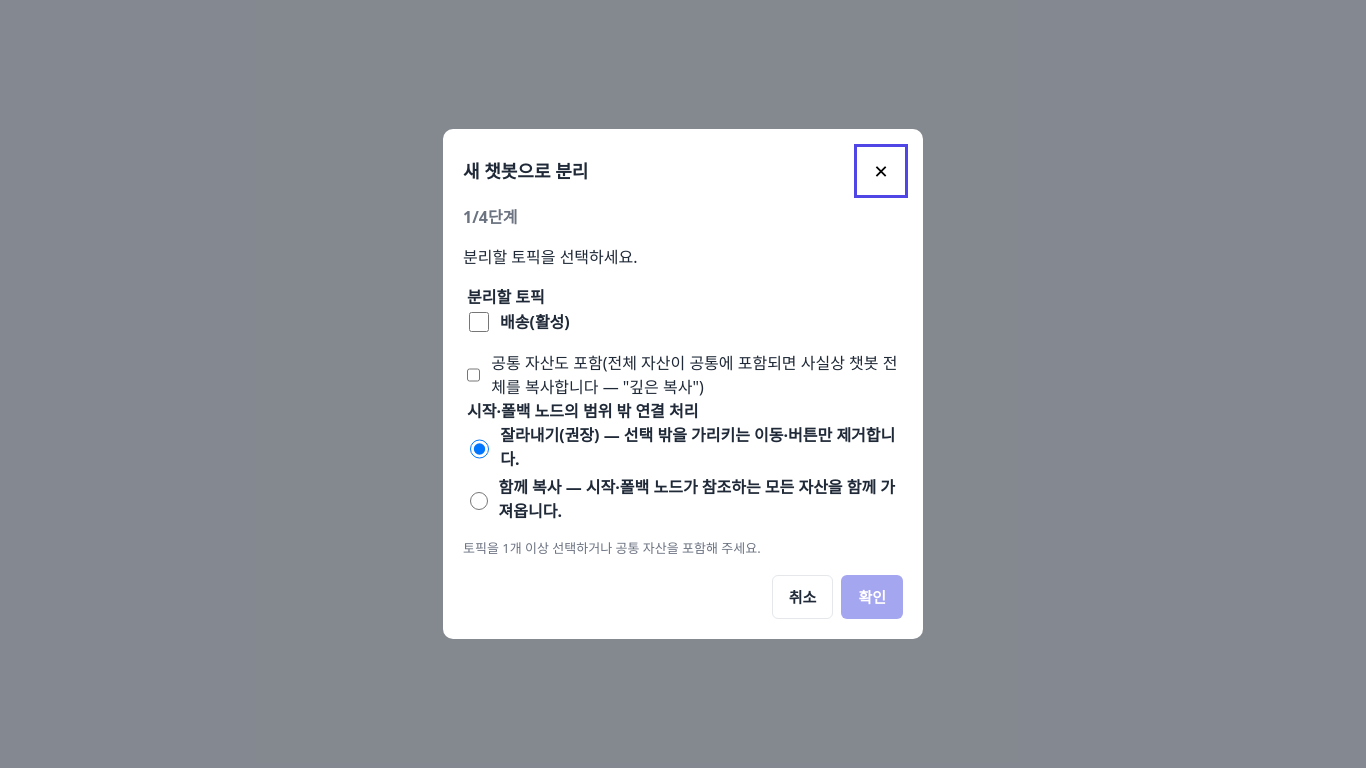
Scenario: TopicSplitWizard › 토픽을 선택하면 다음 버튼이 활성화되고, 클릭 시 미리보기를 요청하며 2단계로 이동한다
The image size is (1366, 768).
Click the checkbox labelled "배송(활성)" at (479, 322), box x1=469 y1=312 x2=489 y2=332
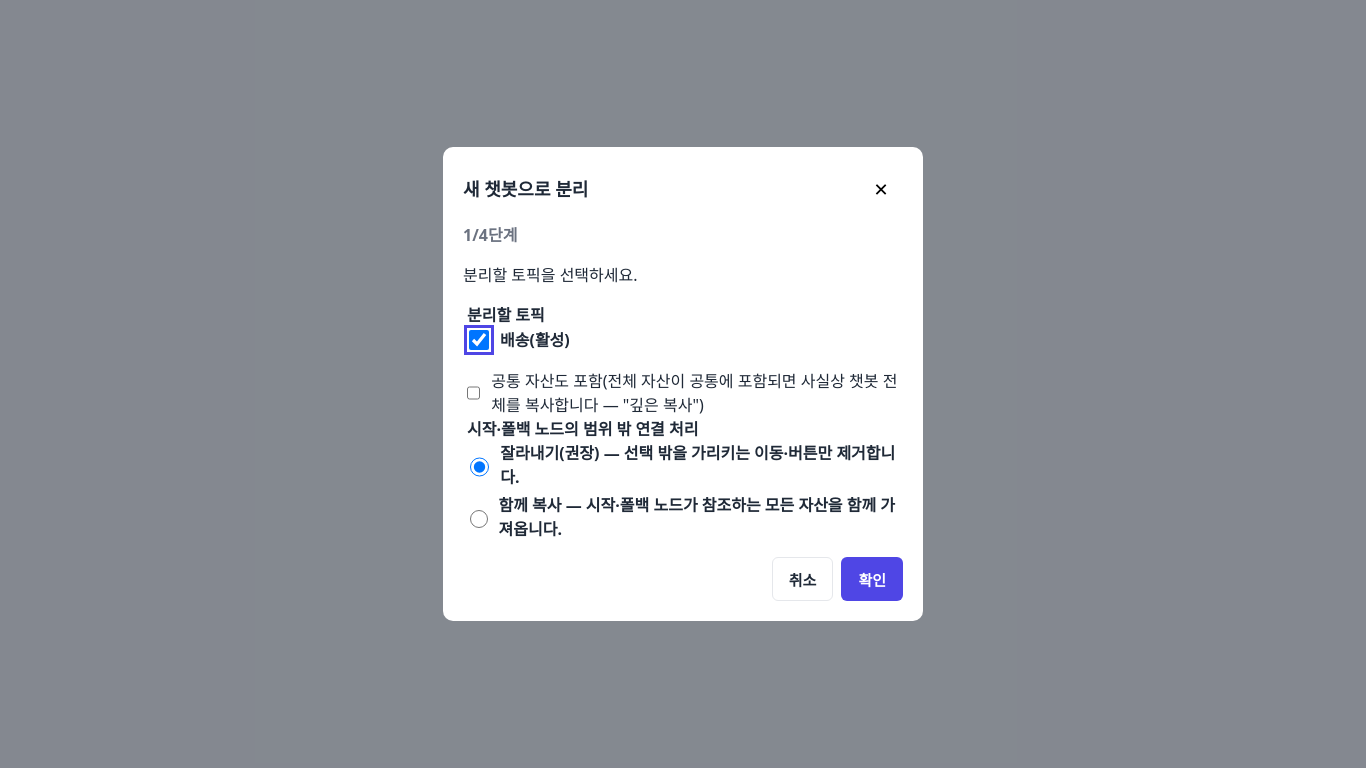
Now the button "확인" is enabled
Click the button "확인" at (872, 579), box x1=841 y1=557 x2=903 y2=601
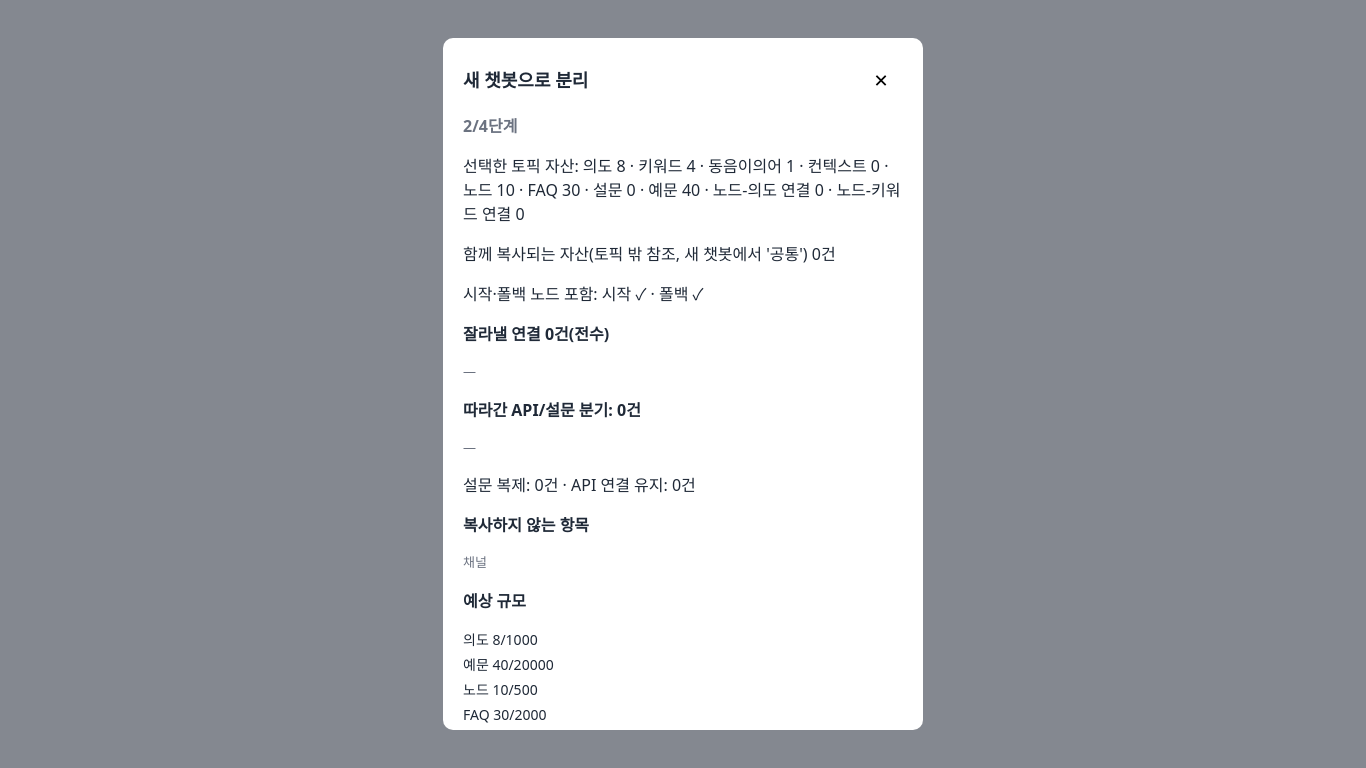
Now the text "2/4단계" is shown, box x1=463 y1=115 x2=517 y2=137
